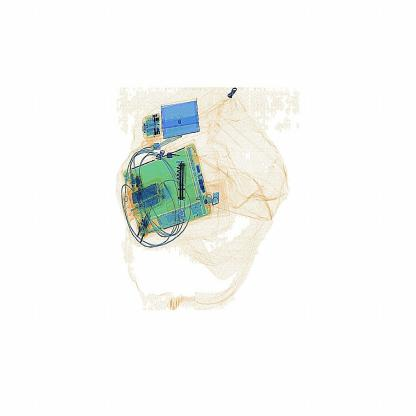scissors: (170, 154, 194, 214)
